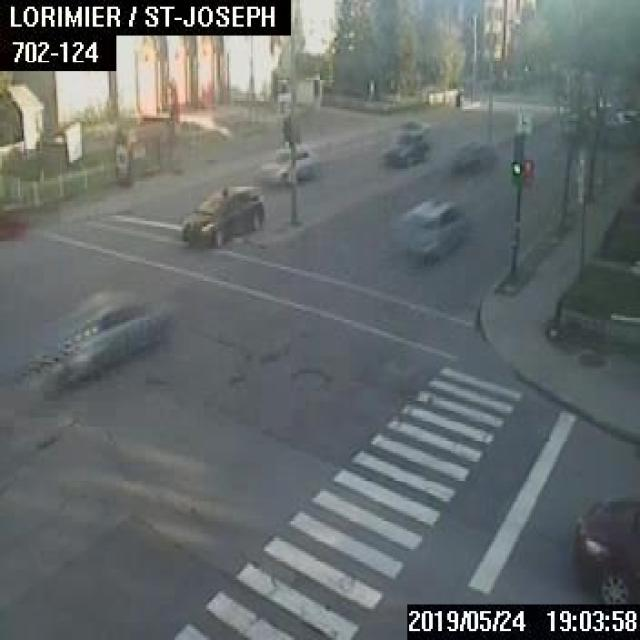vehicle: (26, 288, 168, 386), (571, 491, 638, 602), (179, 185, 263, 246), (398, 201, 462, 258), (256, 143, 313, 185), (382, 121, 429, 165), (451, 142, 493, 174)
